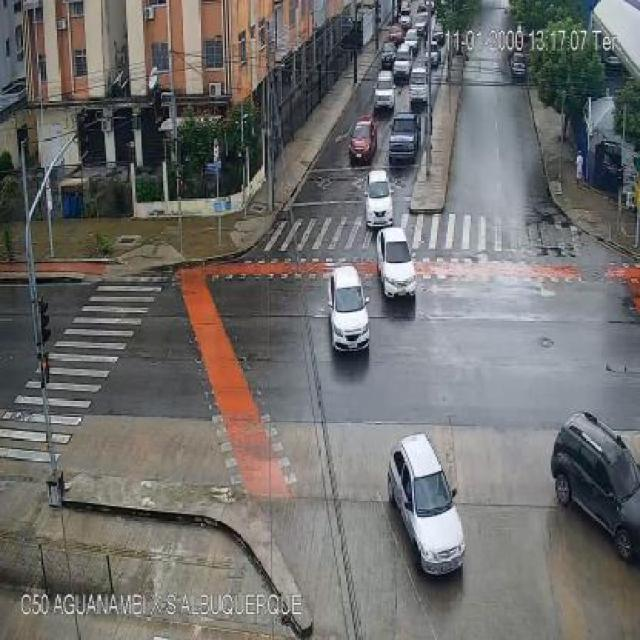Car: (549, 412, 640, 562), (388, 434, 468, 583), (328, 262, 372, 362), (375, 227, 418, 302), (388, 109, 423, 167), (365, 169, 395, 229), (349, 114, 376, 168), (373, 71, 395, 112), (410, 67, 429, 110), (392, 42, 413, 80), (379, 42, 395, 67)
